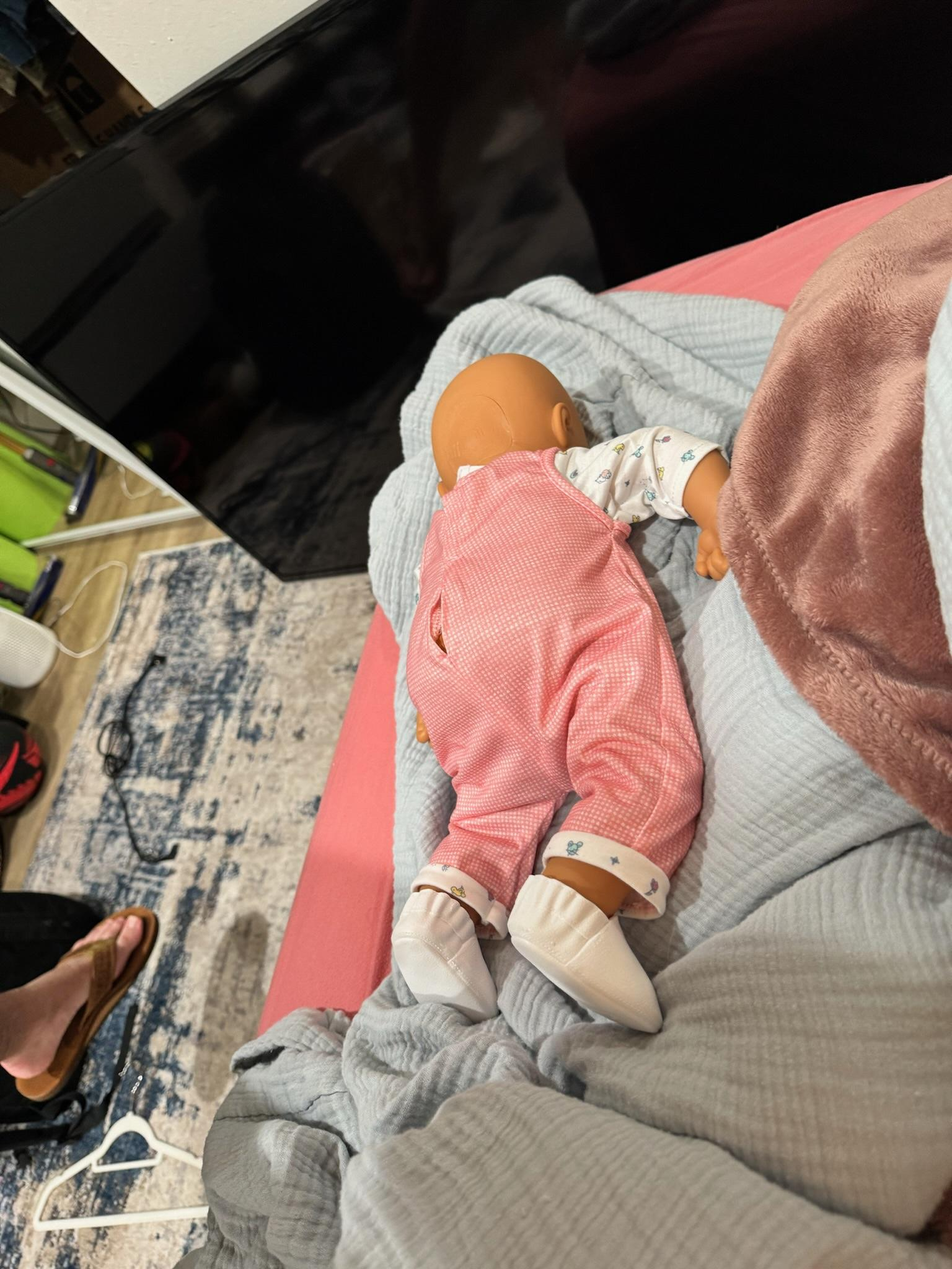baby: (374, 343, 738, 1053)
